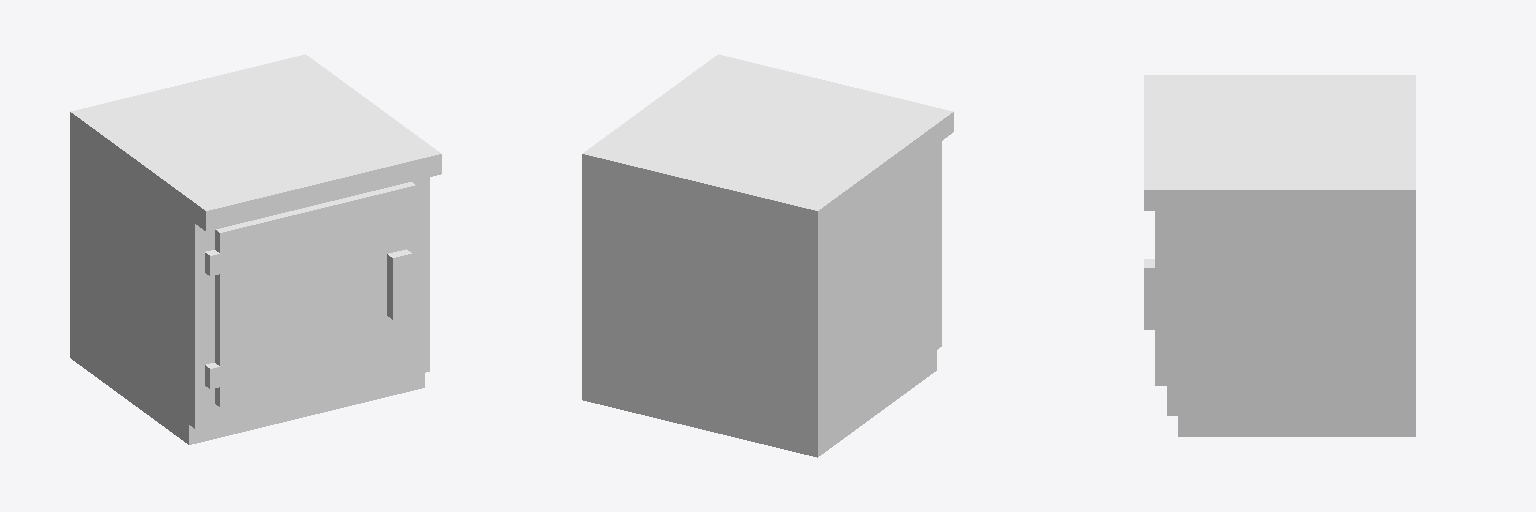
The model's file is CupboardBigDoor.obj.
3 renders of one model, left to right at view 1: azimuth 30°, elevation 25°; view 2: azimuth 150°, elevation 25°; view 3: azimuth 270°, elevation 25°, orthographic.
Visible parts, largest first — view 1: CupboardBigDoor; view 2: CupboardBigDoor; view 3: CupboardBigDoor.
Part boxes in pixels (left/top/right/bottom): CupboardBigDoor: left=70, top=54, right=441, bottom=444; CupboardBigDoor: left=582, top=54, right=953, bottom=457; CupboardBigDoor: left=1144, top=75, right=1415, bottom=436.
Size of the model in its own units: 2.4 by 2.4 by 2.4.